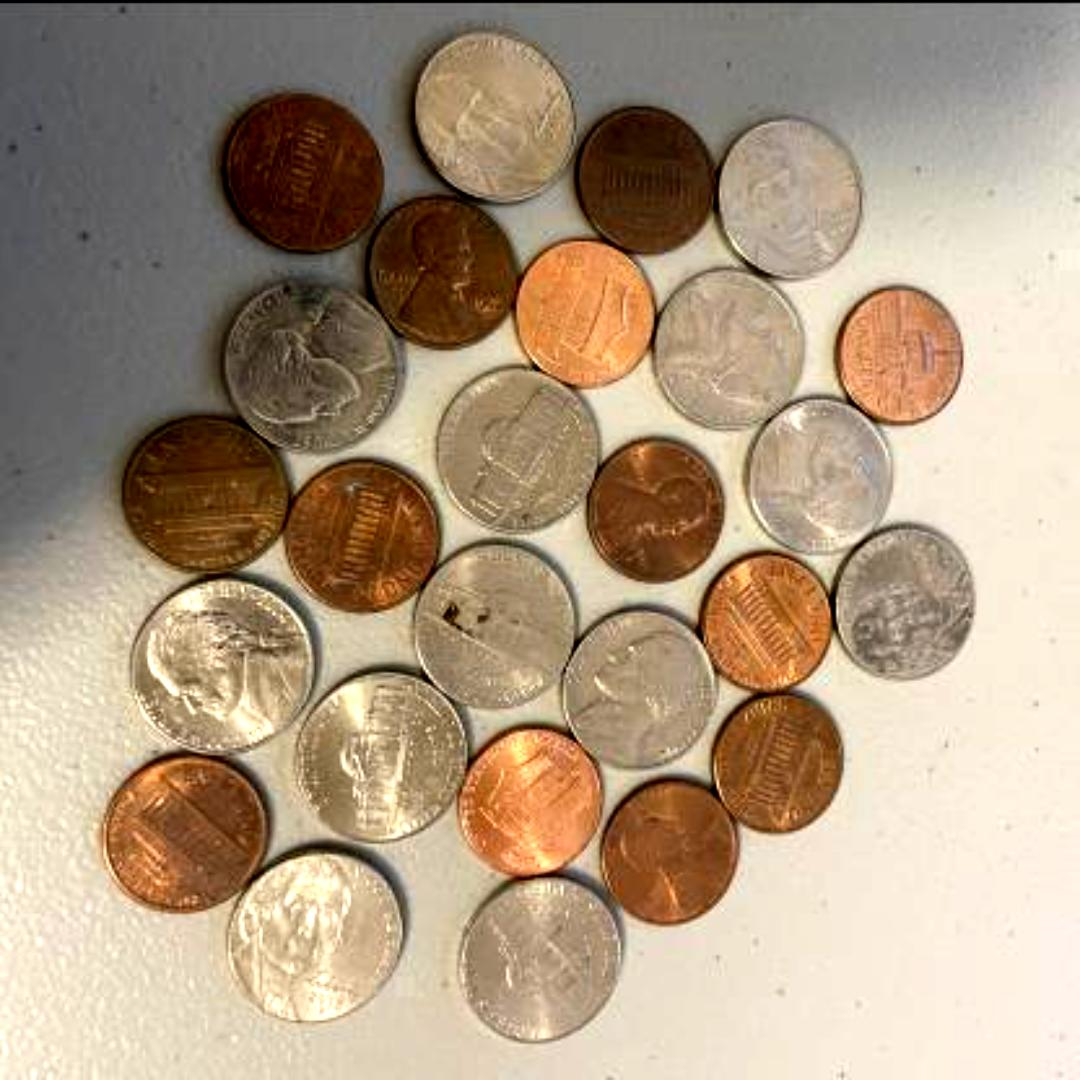Nickel: (216, 275, 412, 451), (135, 574, 321, 752), (232, 849, 410, 1025), (413, 23, 584, 204), (291, 672, 472, 838), (408, 540, 578, 708), (458, 875, 628, 1041), (434, 366, 600, 532), (650, 265, 805, 431), (562, 603, 716, 763), (748, 392, 898, 552), (717, 120, 867, 280), (838, 522, 984, 682)
Penny: (101, 743, 272, 911), (224, 91, 384, 249), (127, 418, 293, 568), (364, 195, 518, 355), (294, 454, 447, 610), (595, 774, 745, 924), (573, 100, 718, 255), (461, 727, 608, 872), (585, 431, 727, 581), (519, 237, 659, 387), (709, 686, 849, 836), (696, 548, 836, 690), (836, 280, 970, 426)
